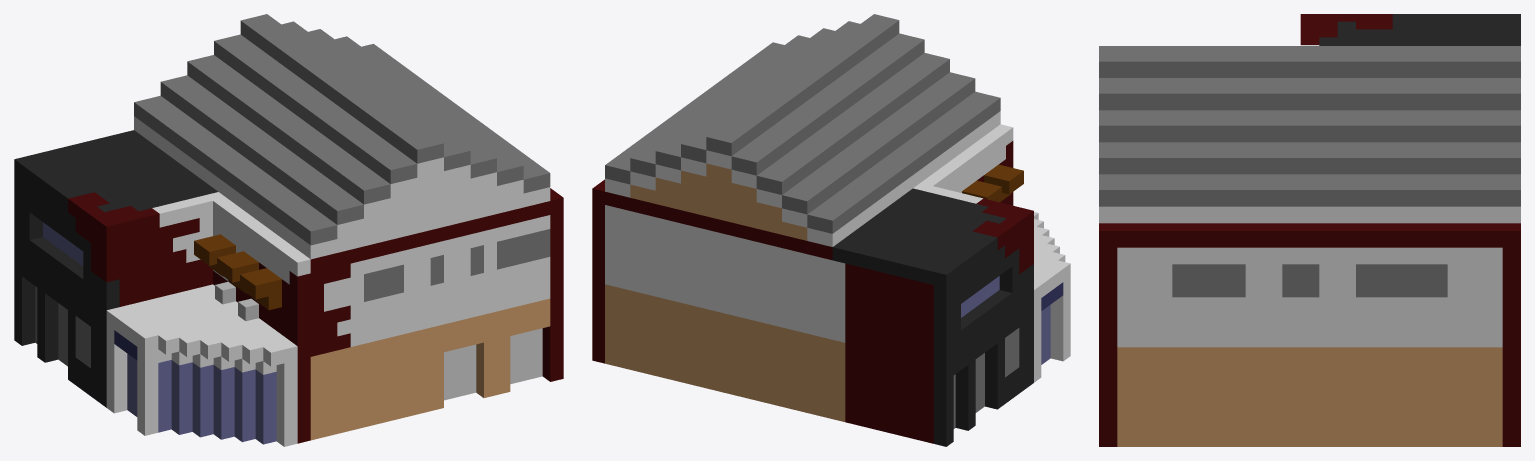
The model's file is yoshida30.fbx.
3 renders of one model, left to right at view 1: azimuth 30°, elevation 25°; view 2: azimuth 150°, elevation 25°; view 3: azimuth 270°, elevation 25°, orthographic. The views are drawn at different scales.
Visible parts, largest first — view 1: Default; view 2: Default; view 3: Default.
Boxes of the visible parts, x1,y1,x2,y2 form: Default: (14,14,563,446); Default: (592,14,1070,446); Default: (1099,14,1520,446).
Bounding box in the file's own units: 28 × 19 × 23.
1 material, 1 textured.
